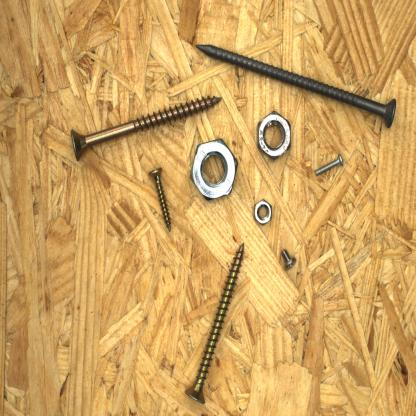screw: (193, 39, 399, 131), (66, 93, 224, 166), (182, 238, 247, 407), (147, 162, 174, 234), (310, 152, 348, 178), (281, 243, 300, 275)
